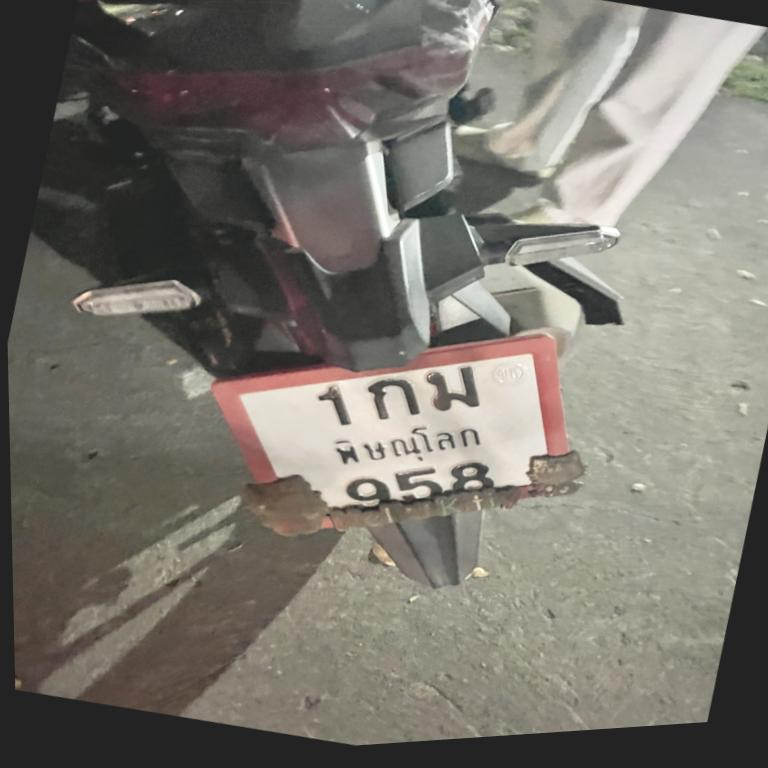license plate: (187, 263, 613, 598)
